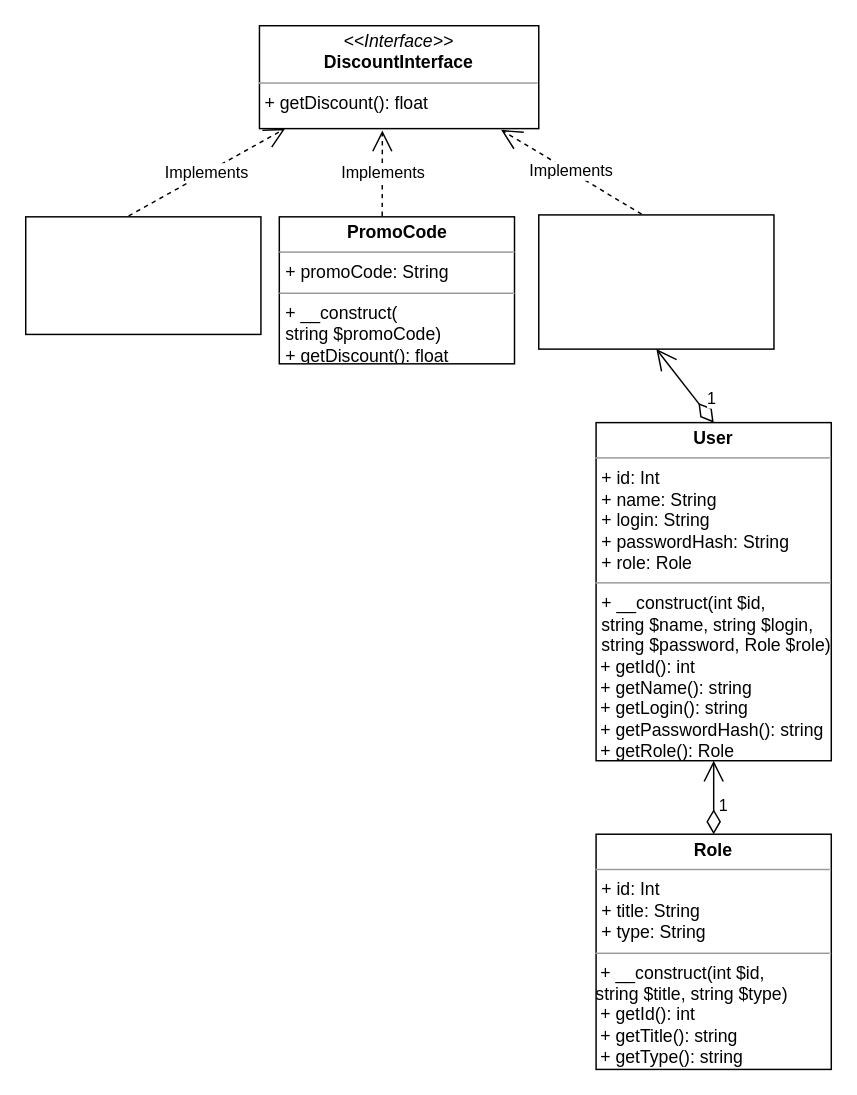
This 857x1095 diagram has some shape labels left out. The centre of each missing label's shape, as x and y in pixels:
"NullObject + getDiscount(): float" goes at point 142,274.
"VipDiscount + user: String + __construct(User $user) + getDiscount(): float" goes at point 655,281.
